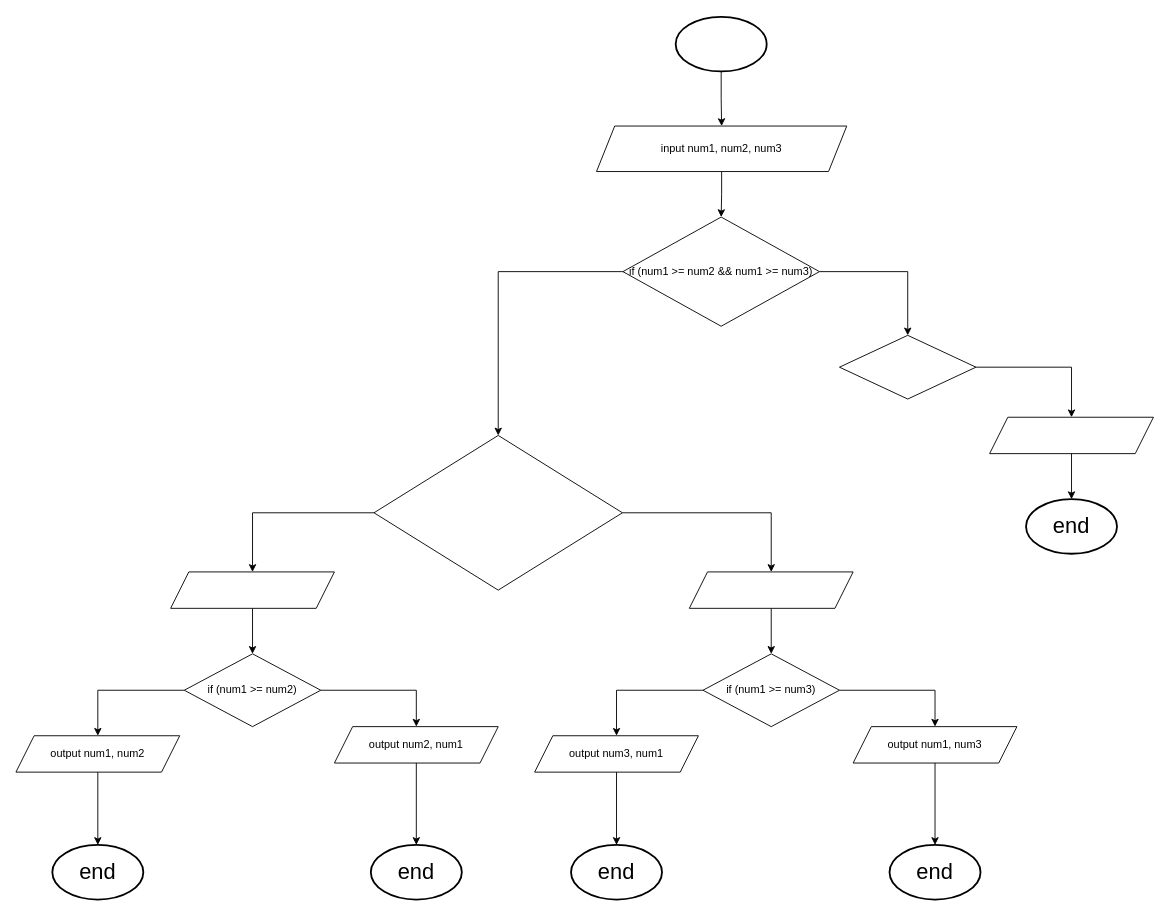
The diagram is 1169 pixels wide and 915 high, and some of its shapes have lost their labels. The shapes that lost their labels are listed below. From the top down, each one's box as (x1, y1, x2, y2) in pixels, then its label:
(674, 15, 767, 72): start
(839, 334, 976, 399): num2 >= num3
(989, 416, 1153, 454): output num2, num3
(373, 435, 622, 590): else if (num2 >= num1 && num2 >= num3)
(170, 571, 334, 608): output num3
(688, 571, 853, 608): output num2
